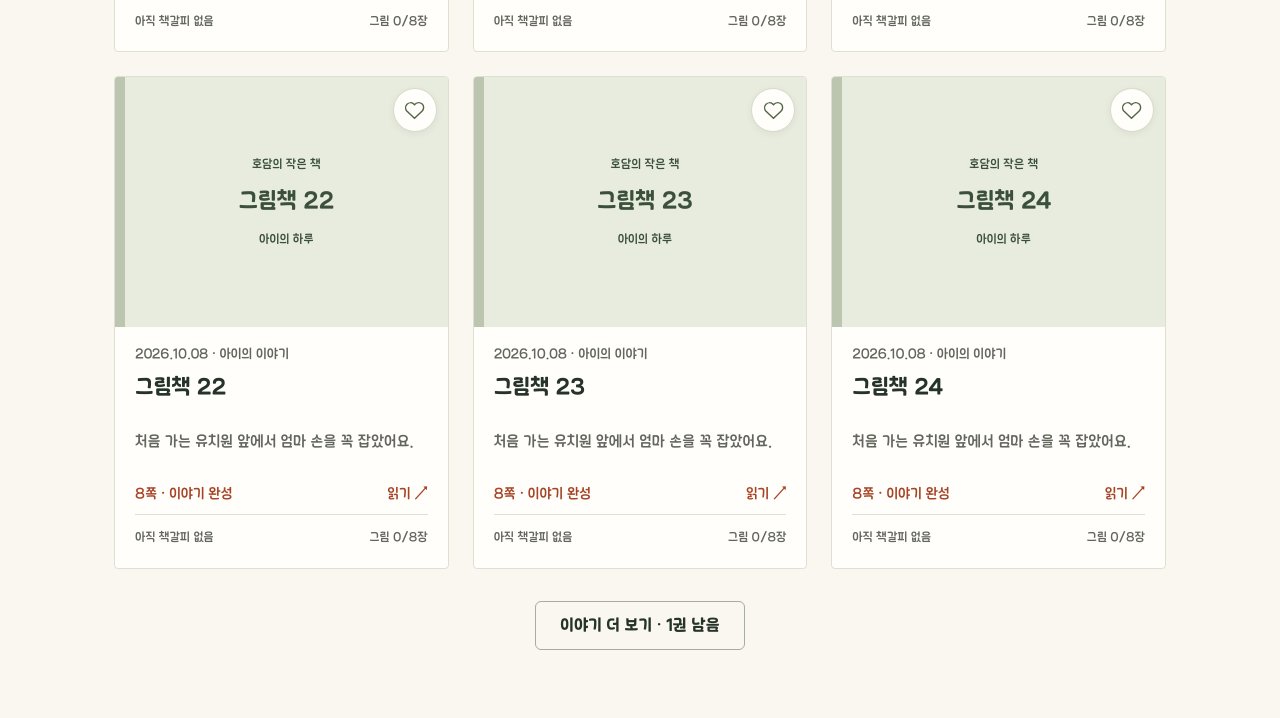
Test: MyStoryLibrary discovery › keeps pagination and can find a favorite beyond the first page
The width and height of the screenshot is (1280, 718).
(page scrolled)
Check: the heading "그림책 25" is not shown
Click the button "이야기 더 보기 · 1권 남음".
click(640, 625)  # box [535,601,745,650]
(page scrolled)
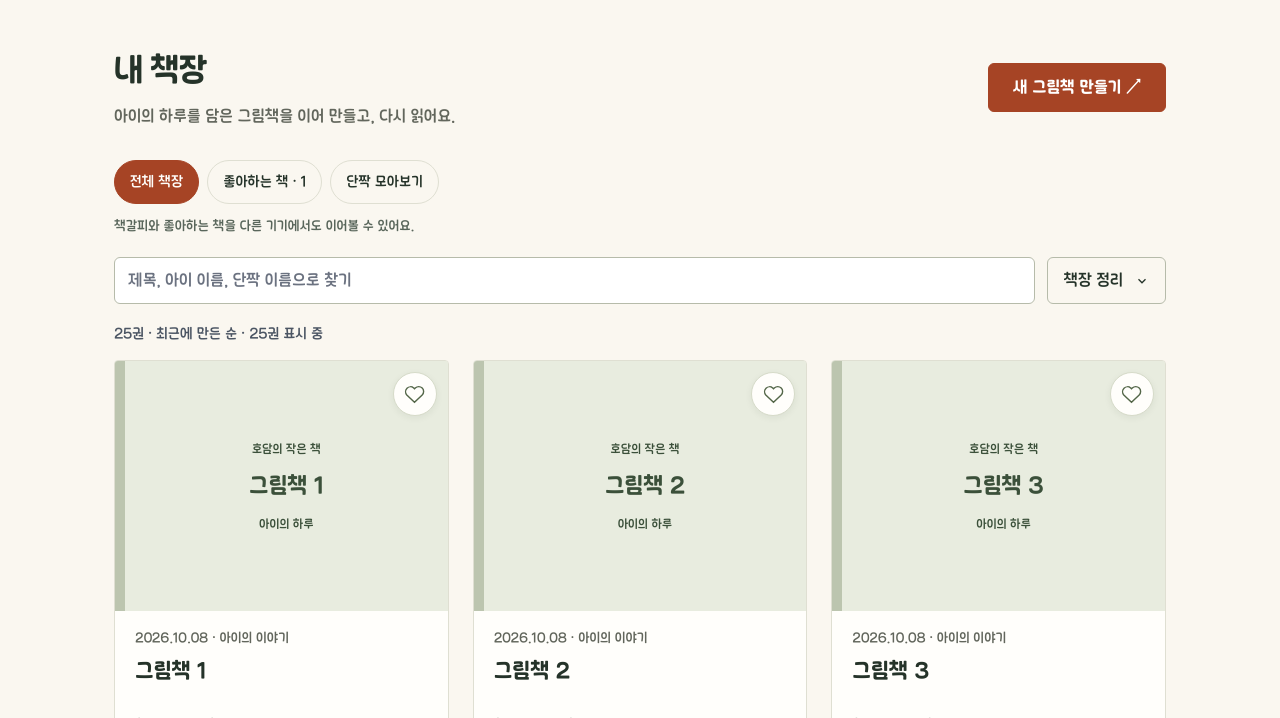
Click the button "좋아하는 책 · 1".
click(265, 182)  # box [207,160,322,204]
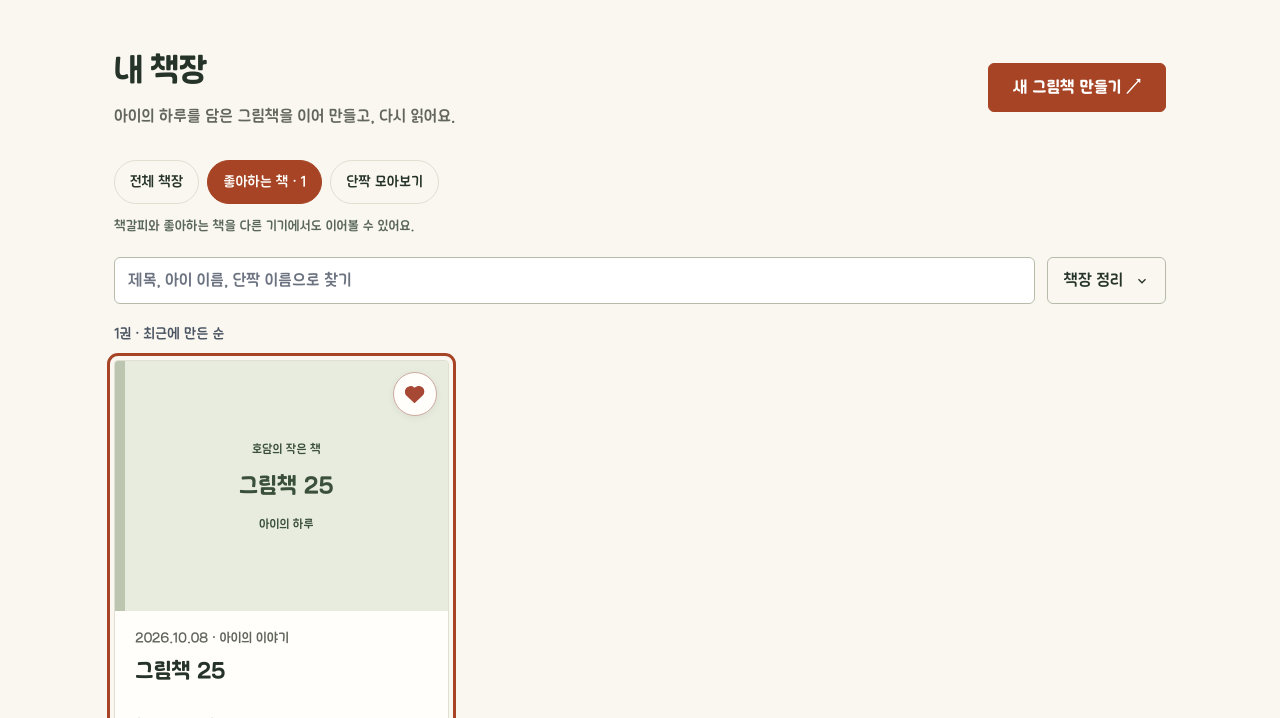
Check: the heading "그림책 25" is shown, box [135,659,226,683]
Check: the link "그림책 1" is gone
